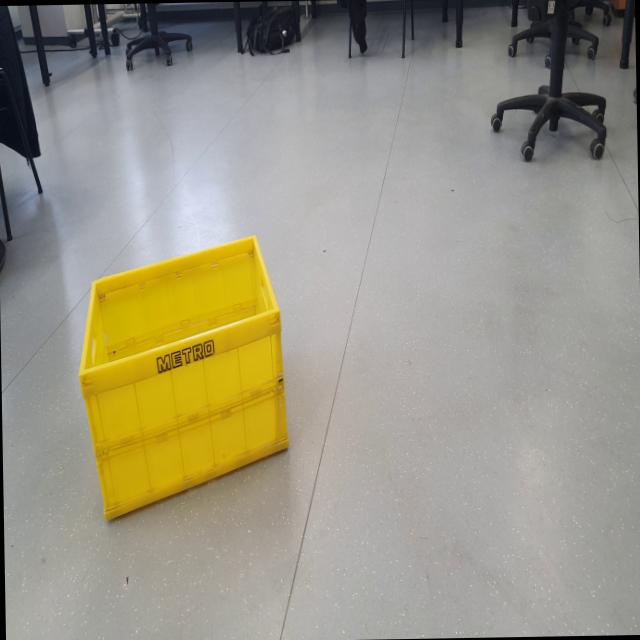box: (73, 227, 298, 531)
